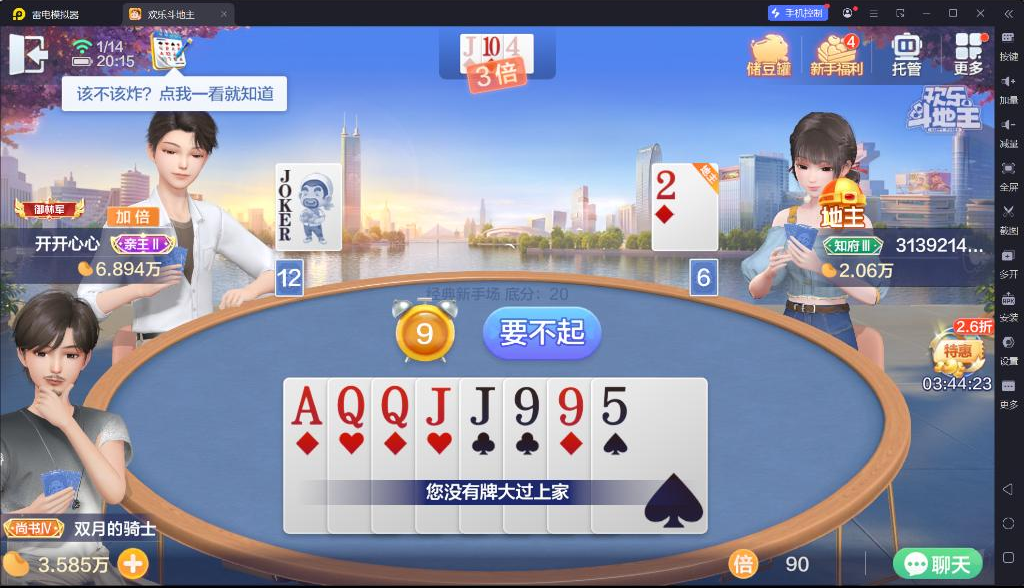A: (288, 383, 324, 428)
J: (465, 383, 497, 427), (422, 383, 452, 428), (461, 33, 477, 58)
Q: (378, 383, 410, 431), (334, 382, 366, 429)
five: (598, 383, 630, 427)
four: (505, 34, 521, 57)
joker: (276, 167, 296, 217)
nine: (552, 384, 586, 427), (509, 383, 540, 428)
ten: (483, 35, 501, 58)
two: (654, 166, 679, 202)
